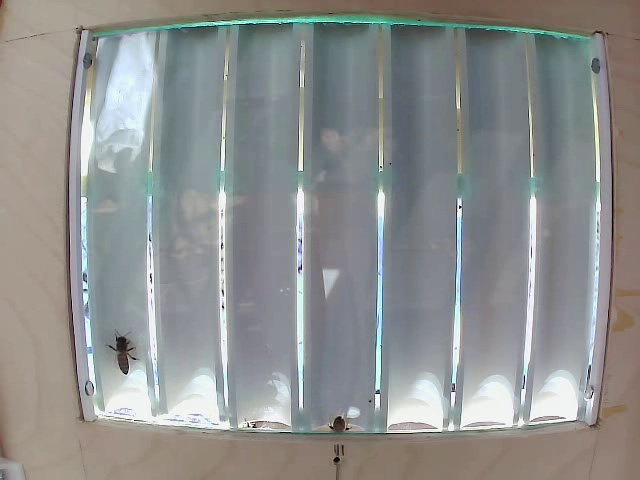bee: (100, 327, 155, 384)
